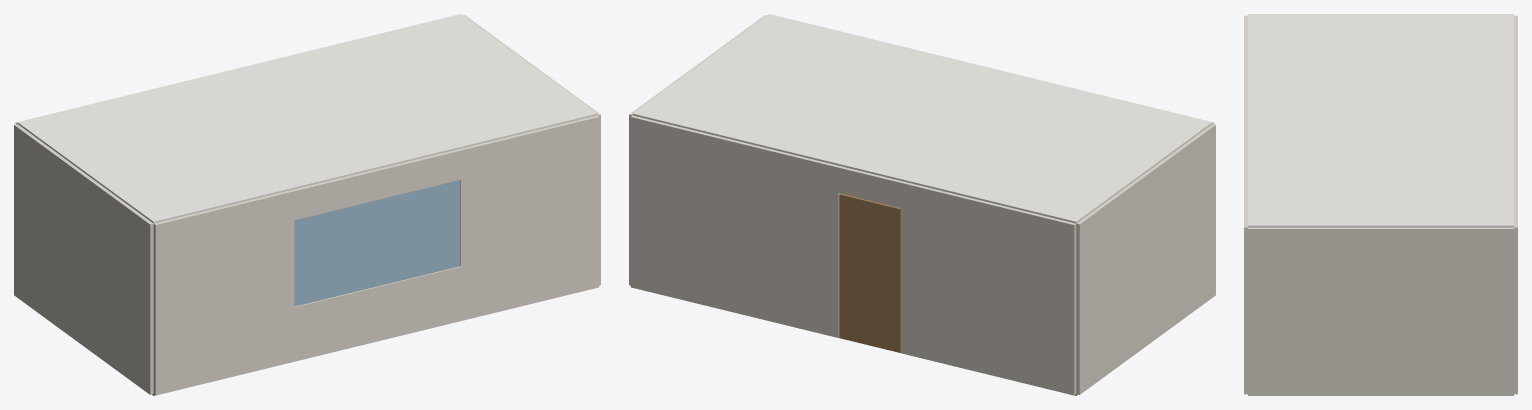
File: cabin_accessible.glb
3 views of the same model, side by side, from view 1: azimuth 30°, elevation 25°; view 2: azimuth 150°, elevation 25°; view 3: azimuth 270°, elevation 25° (orthographic). The views are drawn at different scales.
Parts seen in each view (by area): view 1: cabin_accessible (×3); view 2: cabin_accessible (×3); view 3: cabin_accessible (×2).
Part boxes in pixels (left/top/right/bottom): cabin_accessible (×3): left=14, top=14, right=600, bottom=395; cabin_accessible (×3): left=629, top=14, right=1215, bottom=395; cabin_accessible (×2): left=1244, top=14, right=1517, bottom=395.
Bounding box in the file's own units: 6.5 × 2.4 × 3.5.
